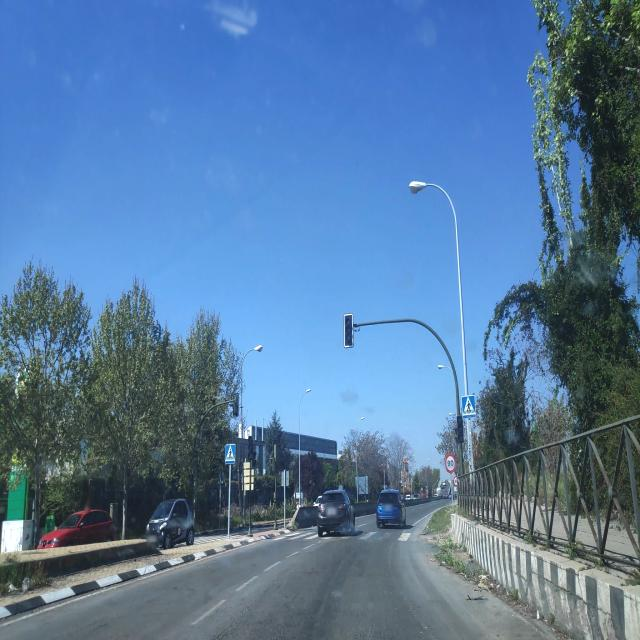car: (37, 507, 115, 550), (144, 498, 194, 552), (316, 488, 356, 537), (376, 488, 406, 528)
